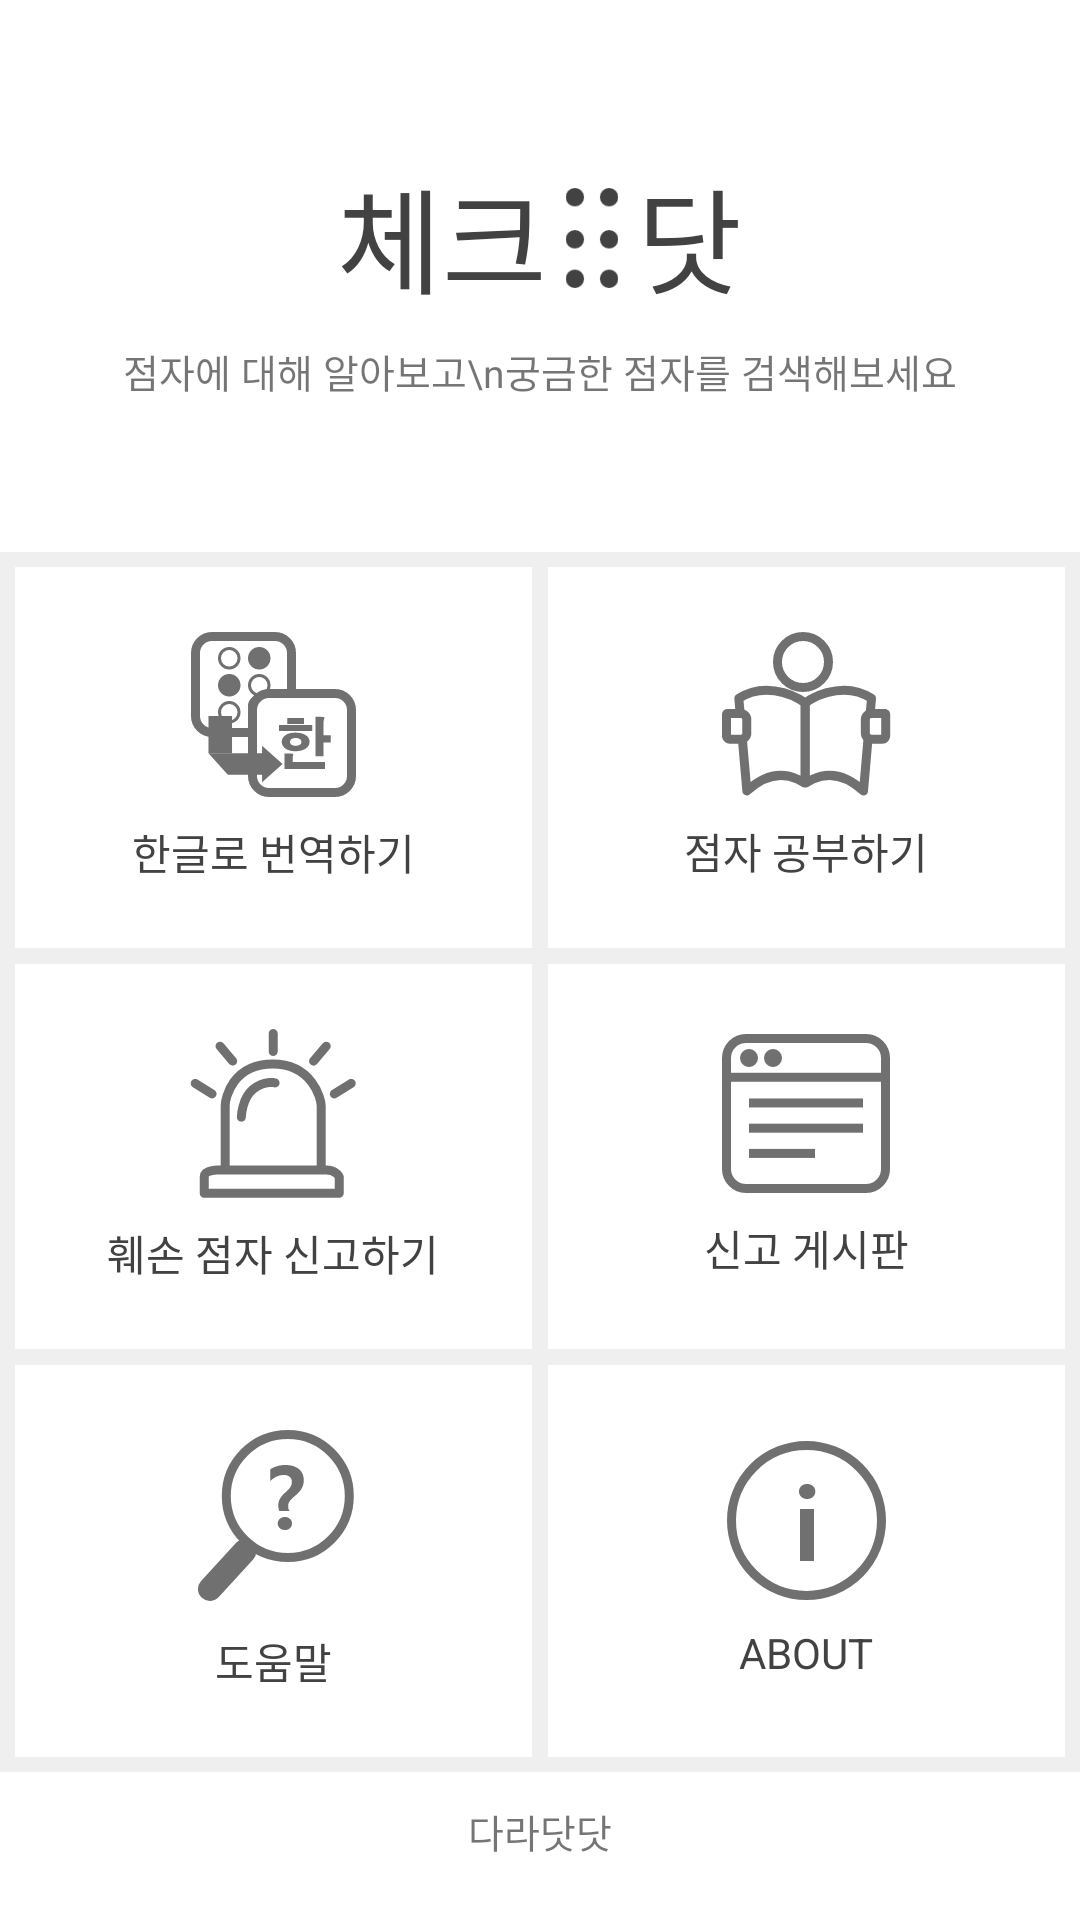

Named icons in this screenshot (1080 x 1920) and their centers, point (x, y):
siren: point (273, 1113)
